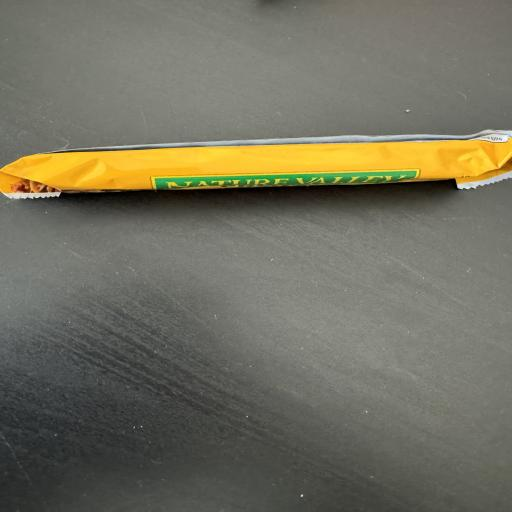granola: (0, 131, 511, 198)
